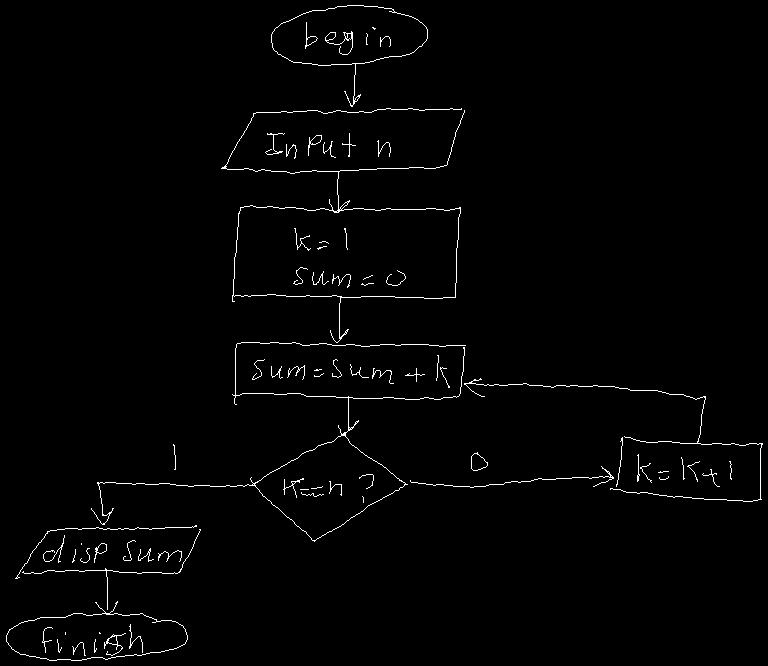arrow: (464, 378, 705, 442), (91, 482, 255, 524), (410, 466, 613, 487), (95, 568, 117, 613), (330, 296, 348, 342), (329, 171, 349, 212), (338, 396, 358, 435), (344, 64, 360, 106)
data: (221, 108, 464, 173), (15, 525, 200, 578)
decision: (250, 432, 407, 541)
process: (232, 205, 460, 301), (232, 342, 465, 404), (610, 436, 762, 501)
terminator: (271, 5, 427, 65), (6, 613, 187, 660)
text: (293, 228, 405, 287), (252, 355, 449, 387), (43, 535, 181, 562), (265, 133, 390, 158), (42, 624, 142, 655), (637, 454, 731, 486), (305, 22, 390, 54), (283, 474, 373, 502), (471, 452, 487, 470), (172, 444, 175, 469)
